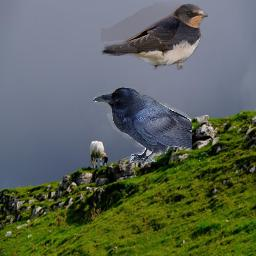Crow: (93, 87, 192, 162)
Swallow: (101, 2, 208, 70)
